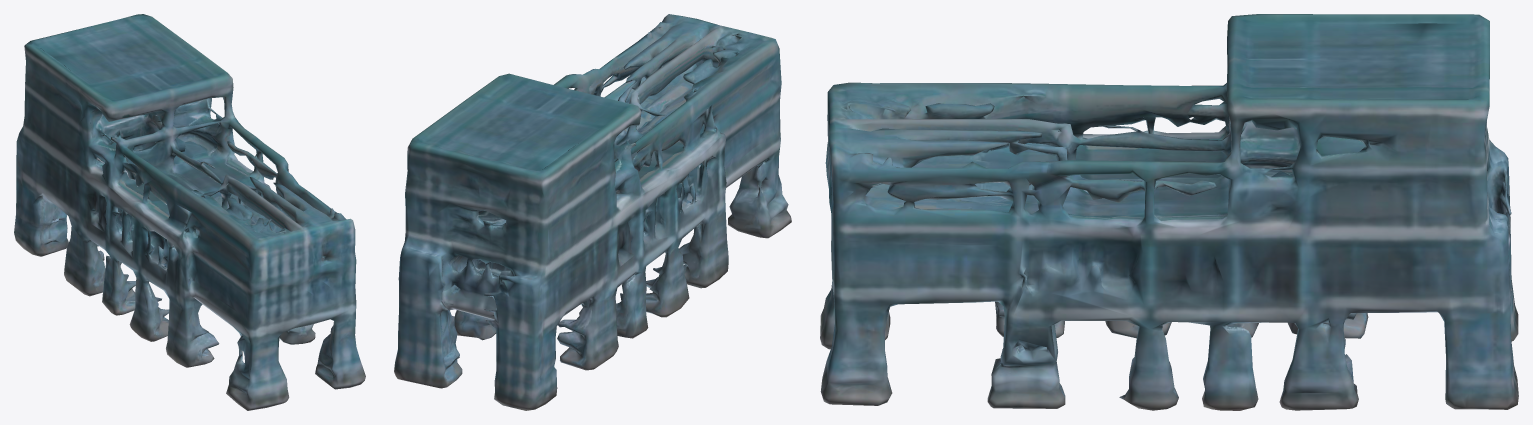
The model's file is 73ab9b1a6da4_2671ecf71665_build__3d_asset_0_g.glb.
3 views of the same model, side by side, from view 1: azimuth 30°, elevation 25°; view 2: azimuth 150°, elevation 25°; view 3: azimuth 270°, elevation 25° (orthographic). The views are drawn at different scales.
Parts seen in each view (by area): view 1: mesh; view 2: mesh; view 3: mesh.
Part boxes in pixels (bbox=[...]): mesh: bbox=[14, 14, 365, 410]; mesh: bbox=[394, 14, 791, 410]; mesh: bbox=[820, 14, 1518, 410].
Bounding box in the file's own units: 0.3256 × 0.4868 × 1.
1 material, 1 textured.
